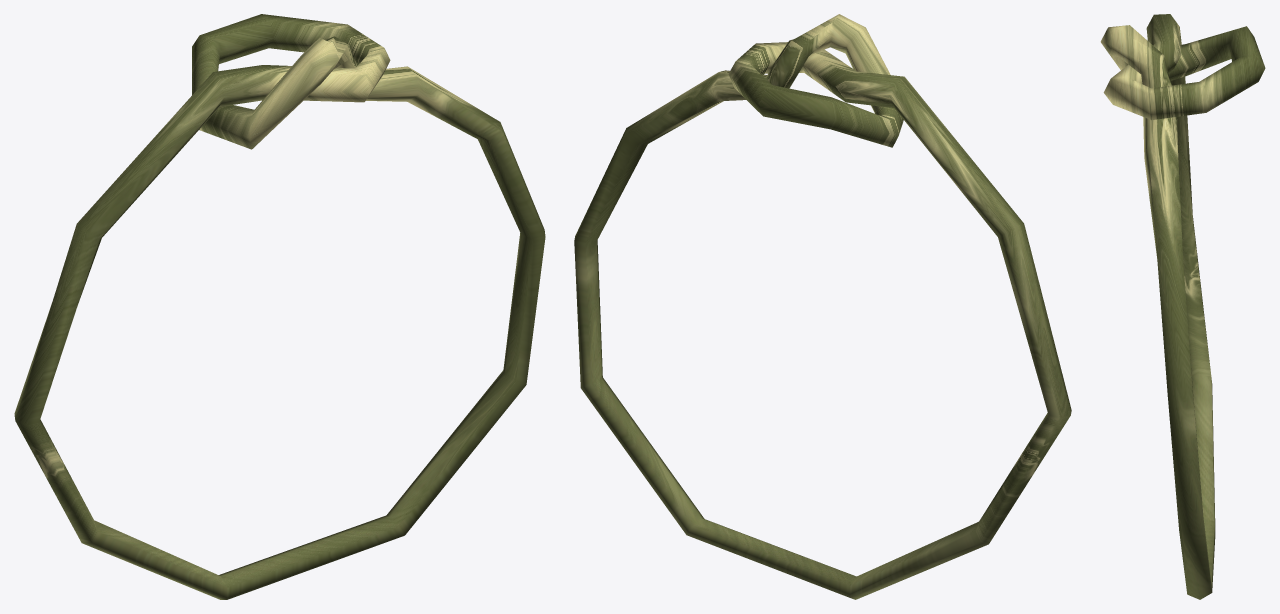
Rendered from beatricering.fbx.
The picture shows the model from 3 angles, left to right: view 1: azimuth 30°, elevation 25°; view 2: azimuth 150°, elevation 25°; view 3: azimuth 270°, elevation 25°; orthographic projection. The views are drawn at different scales.
Visible parts, largest first — view 1: beatricering; view 2: beatricering; view 3: beatricering.
Part boxes in pixels (bbox=[...]): beatricering: bbox=[14, 14, 545, 599]; beatricering: bbox=[574, 14, 1071, 599]; beatricering: bbox=[1100, 14, 1265, 599].
Bounding box in the file's own units: 1.15 × 1.2 × 0.3298.
